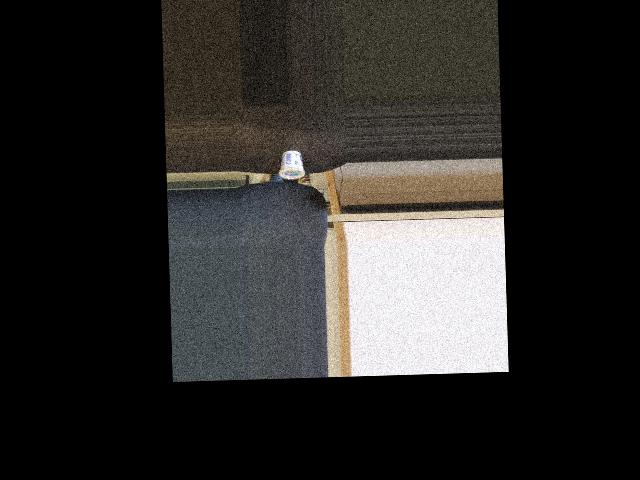cotage: (278, 147, 304, 180)
